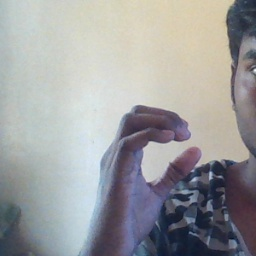C: (115, 104, 215, 203)
